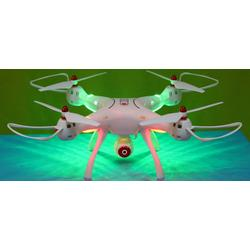drone: (7, 70, 244, 180)
